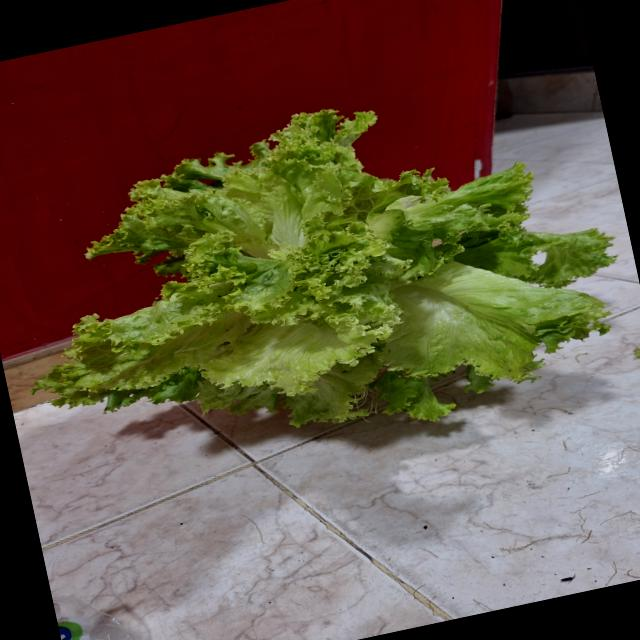lista_para_cosechar: (37, 109, 615, 426)
